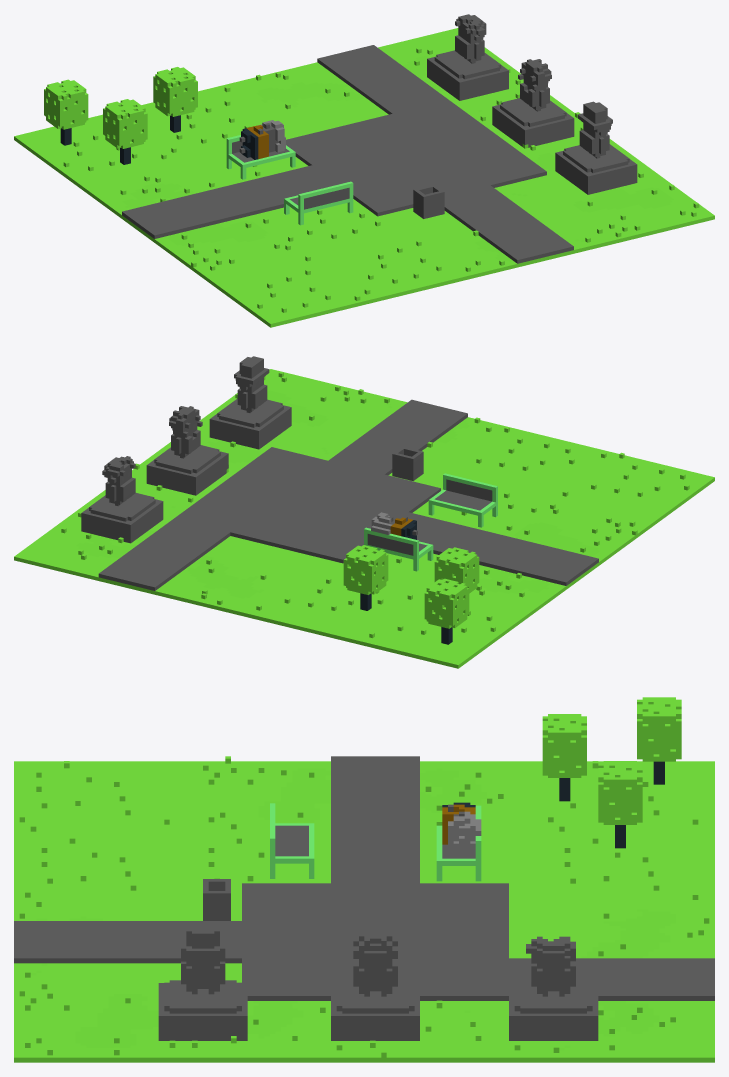
File: scene_park.obj
3 views of the same model, one above another, from view 1: azimuth 30°, elevation 25°; view 2: azimuth 150°, elevation 25°; view 3: azimuth 270°, elevation 25° (orthographic). The views are drawn at different scales.
Size of the model in its own units: 126 by 20 by 126.
